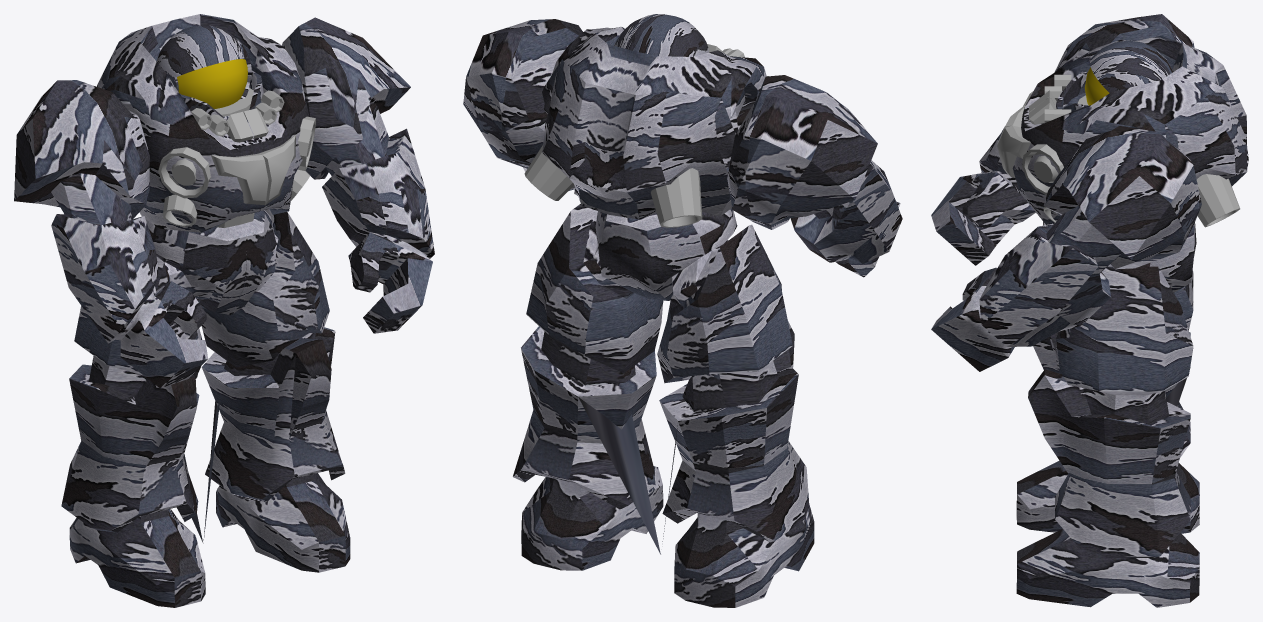
The model's file is marine.fbx.
The picture shows the model from 3 angles, left to right: view 1: azimuth 30°, elevation 25°; view 2: azimuth 150°, elevation 25°; view 3: azimuth 270°, elevation 25°; orthographic projection. The views are drawn at different scales.
Parts seen in each view (by area): view 1: marine; view 2: marine; view 3: marine.
Part boxes in pixels (x1,y1,x2,y2): marine: (14, 14, 434, 607); marine: (463, 14, 902, 607); marine: (931, 14, 1248, 607).
Size of the model in its own units: 16.07 by 21.14 by 11.96.
Materials: 5 (1 with a texture image).
